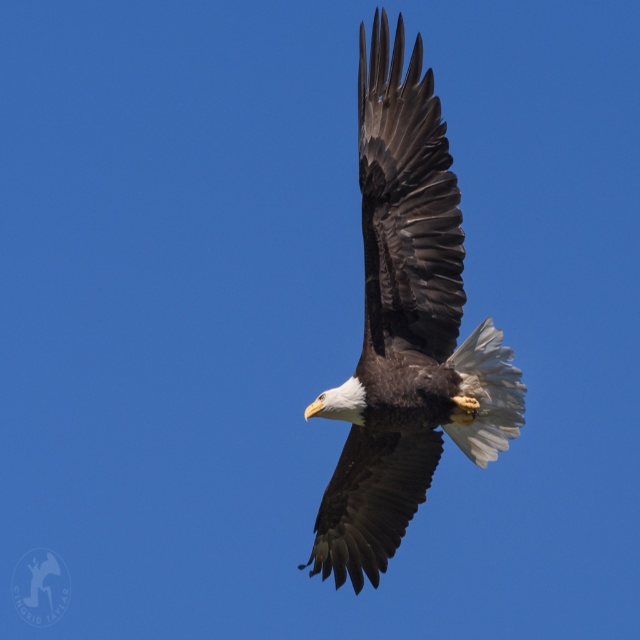Eagle: (299, 10, 527, 594)
